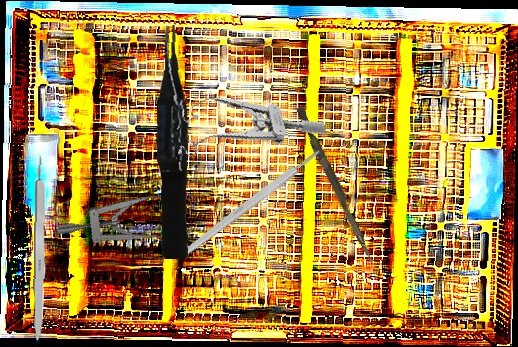Pusher: (291, 105, 381, 265)
Scalpel Handle: (179, 147, 323, 259), (32, 154, 49, 347)
Speculum: (55, 159, 203, 271), (166, 69, 327, 171)
Tissue Forceps: (151, 24, 197, 260)
